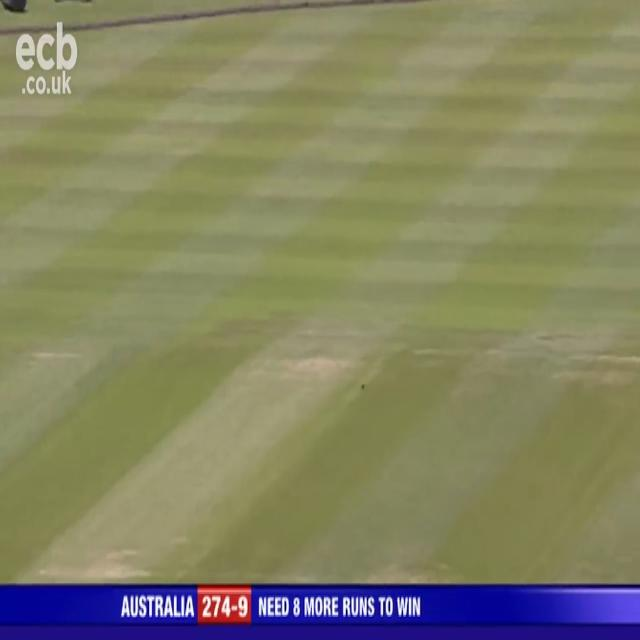ball: (359, 378, 367, 395)
